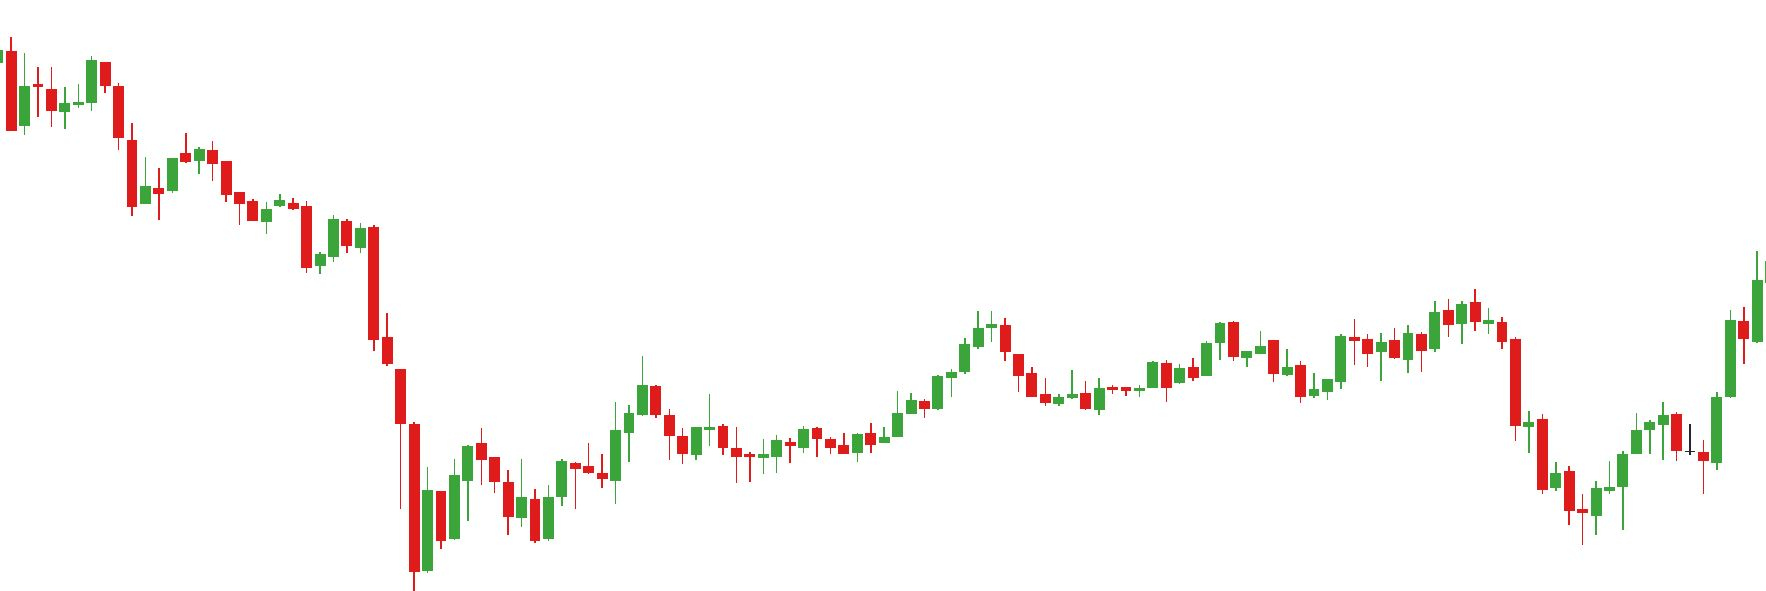buy: (458, 454, 528, 546)
